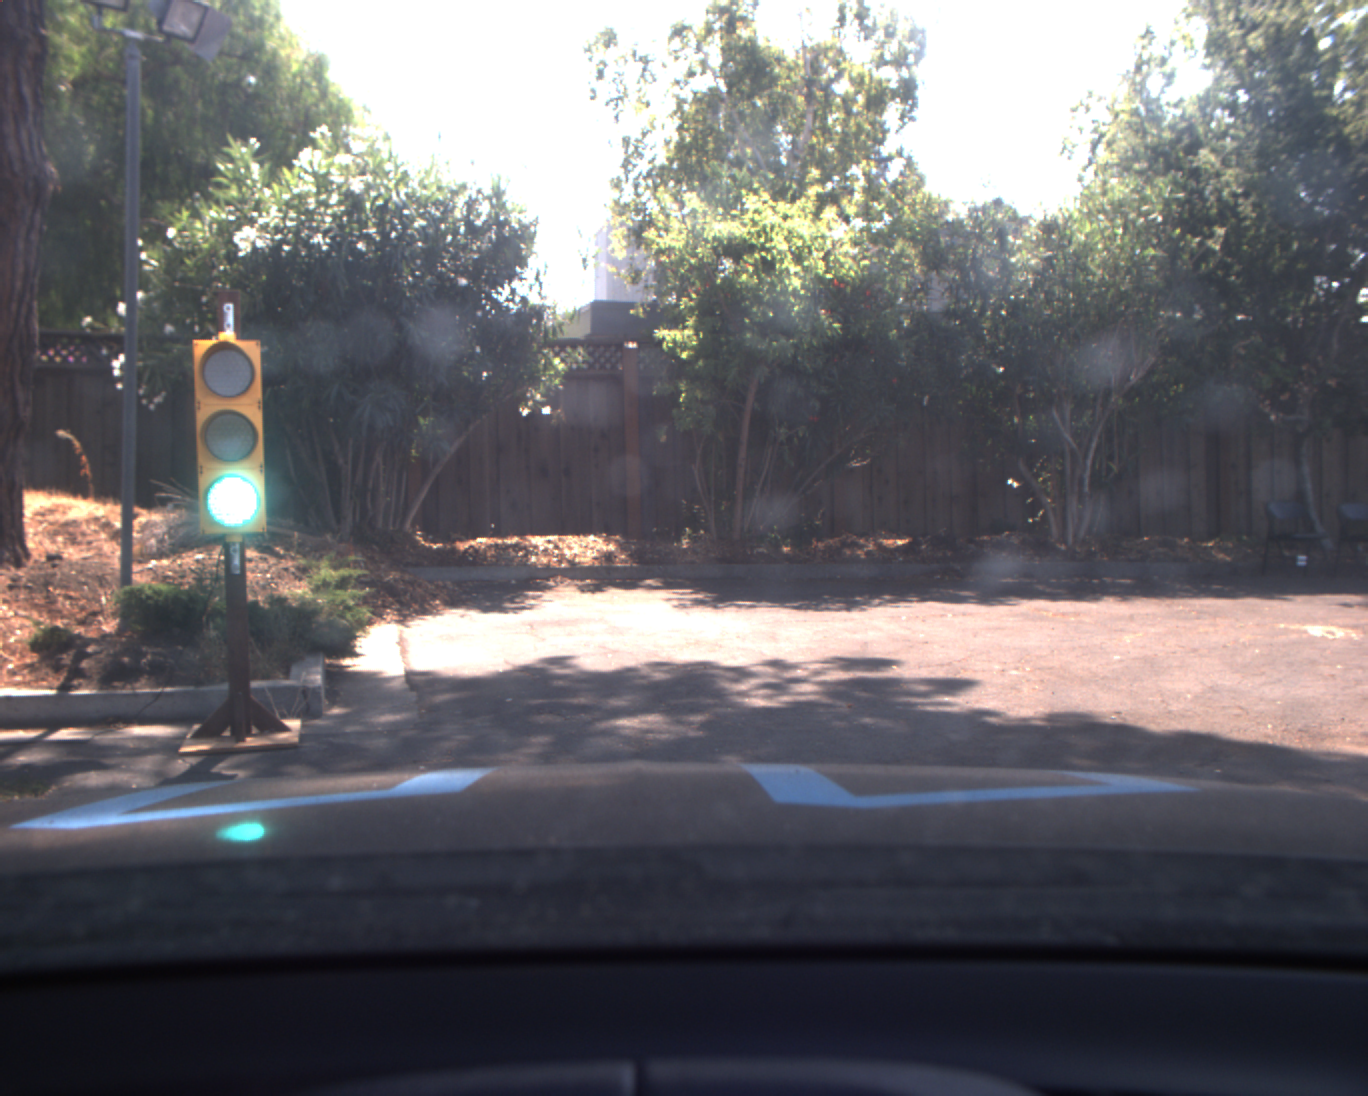green: (190, 336, 272, 538)
